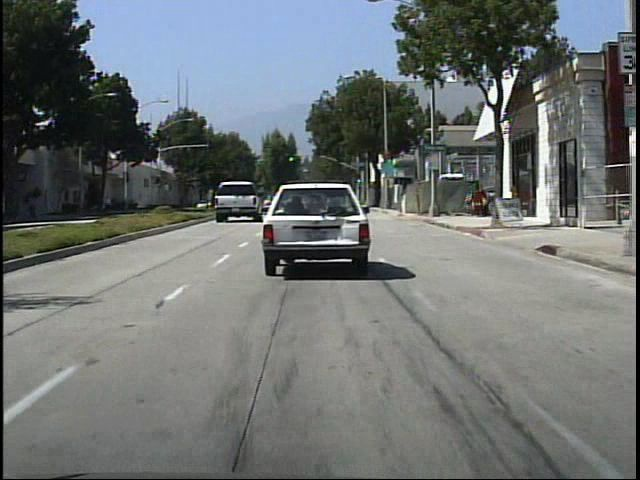person: (26, 195, 45, 226)
